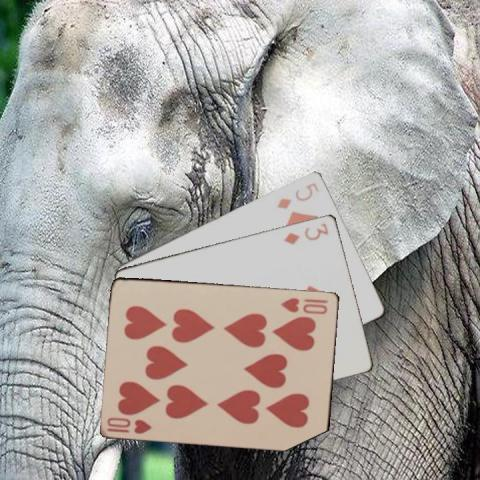10h: (278, 294, 329, 315), (104, 414, 153, 435)
3d: (281, 220, 330, 246)
5d: (274, 179, 320, 211)
